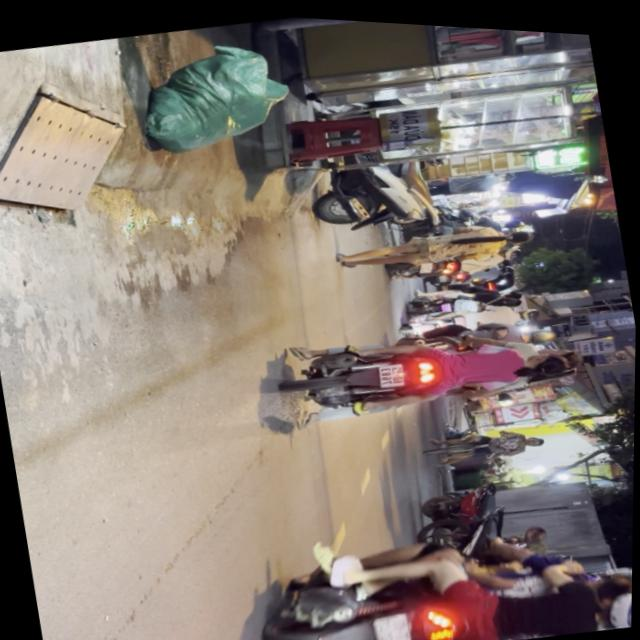helmet: (593, 556, 634, 598), (597, 577, 634, 623)
licenseplate: (251, 486, 634, 640), (272, 292, 591, 444)
motorcyclist: (522, 342, 571, 376)
nohelmet: (375, 607, 415, 640), (379, 357, 407, 384)
